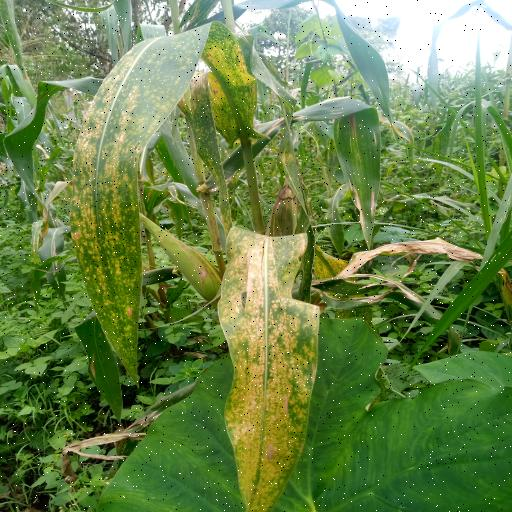Corn_Brown_Spots: (72, 15, 260, 376), (218, 221, 327, 503)
